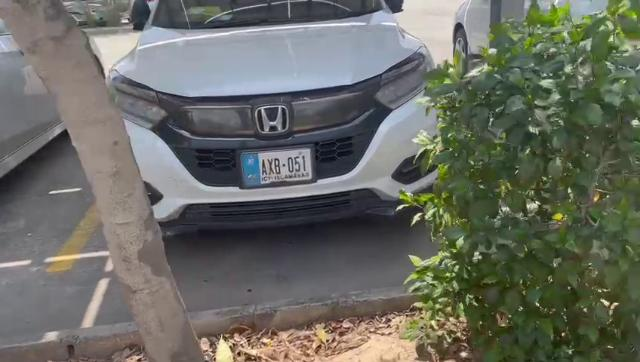plate: (239, 148, 315, 184)
